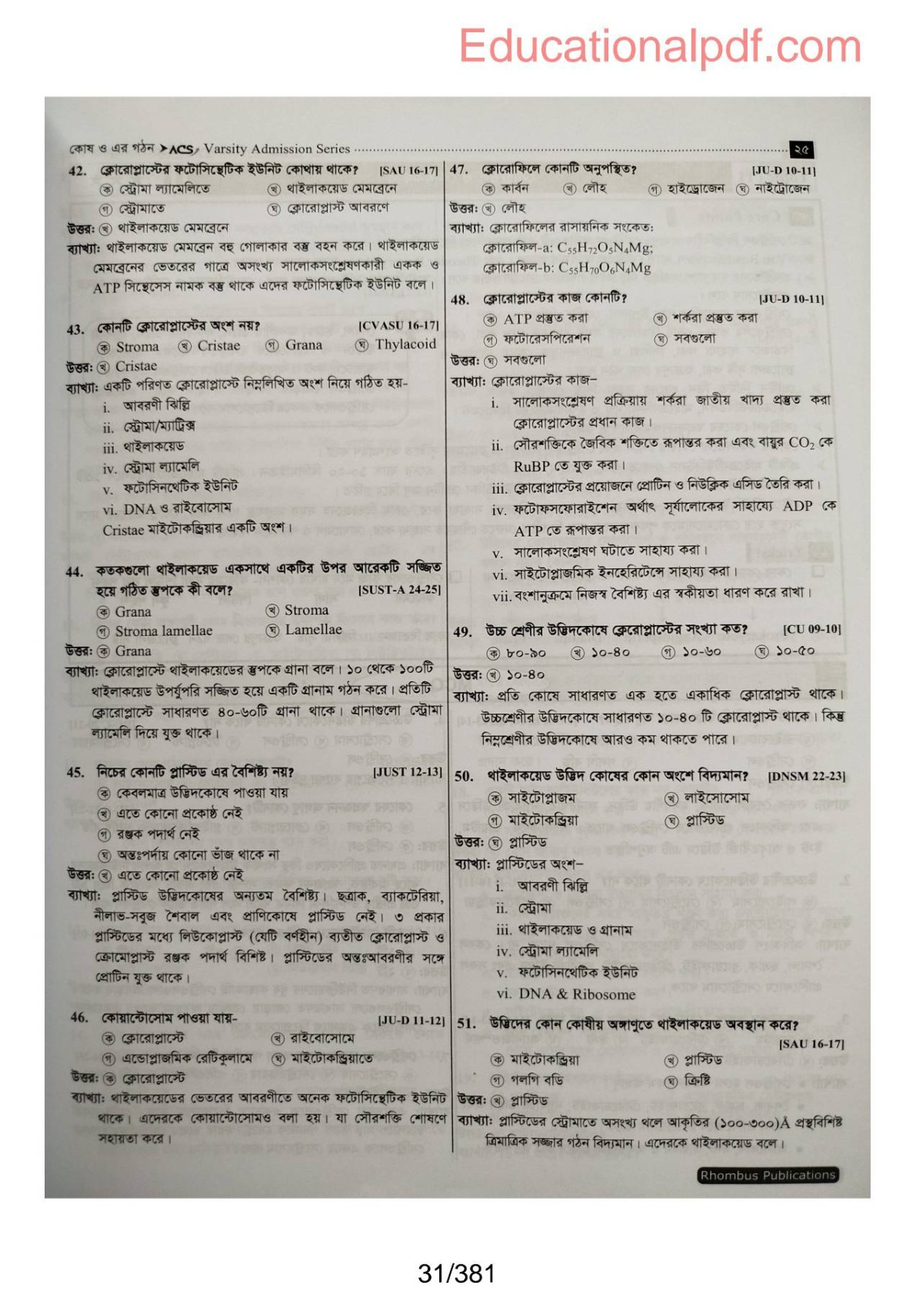question: (40, 758, 448, 868), (39, 656, 444, 747), (454, 1011, 852, 1094), (452, 763, 854, 836), (40, 158, 441, 226), (447, 284, 832, 353), (40, 1009, 448, 1073), (450, 616, 850, 672), (40, 313, 443, 365), (446, 157, 824, 202)
